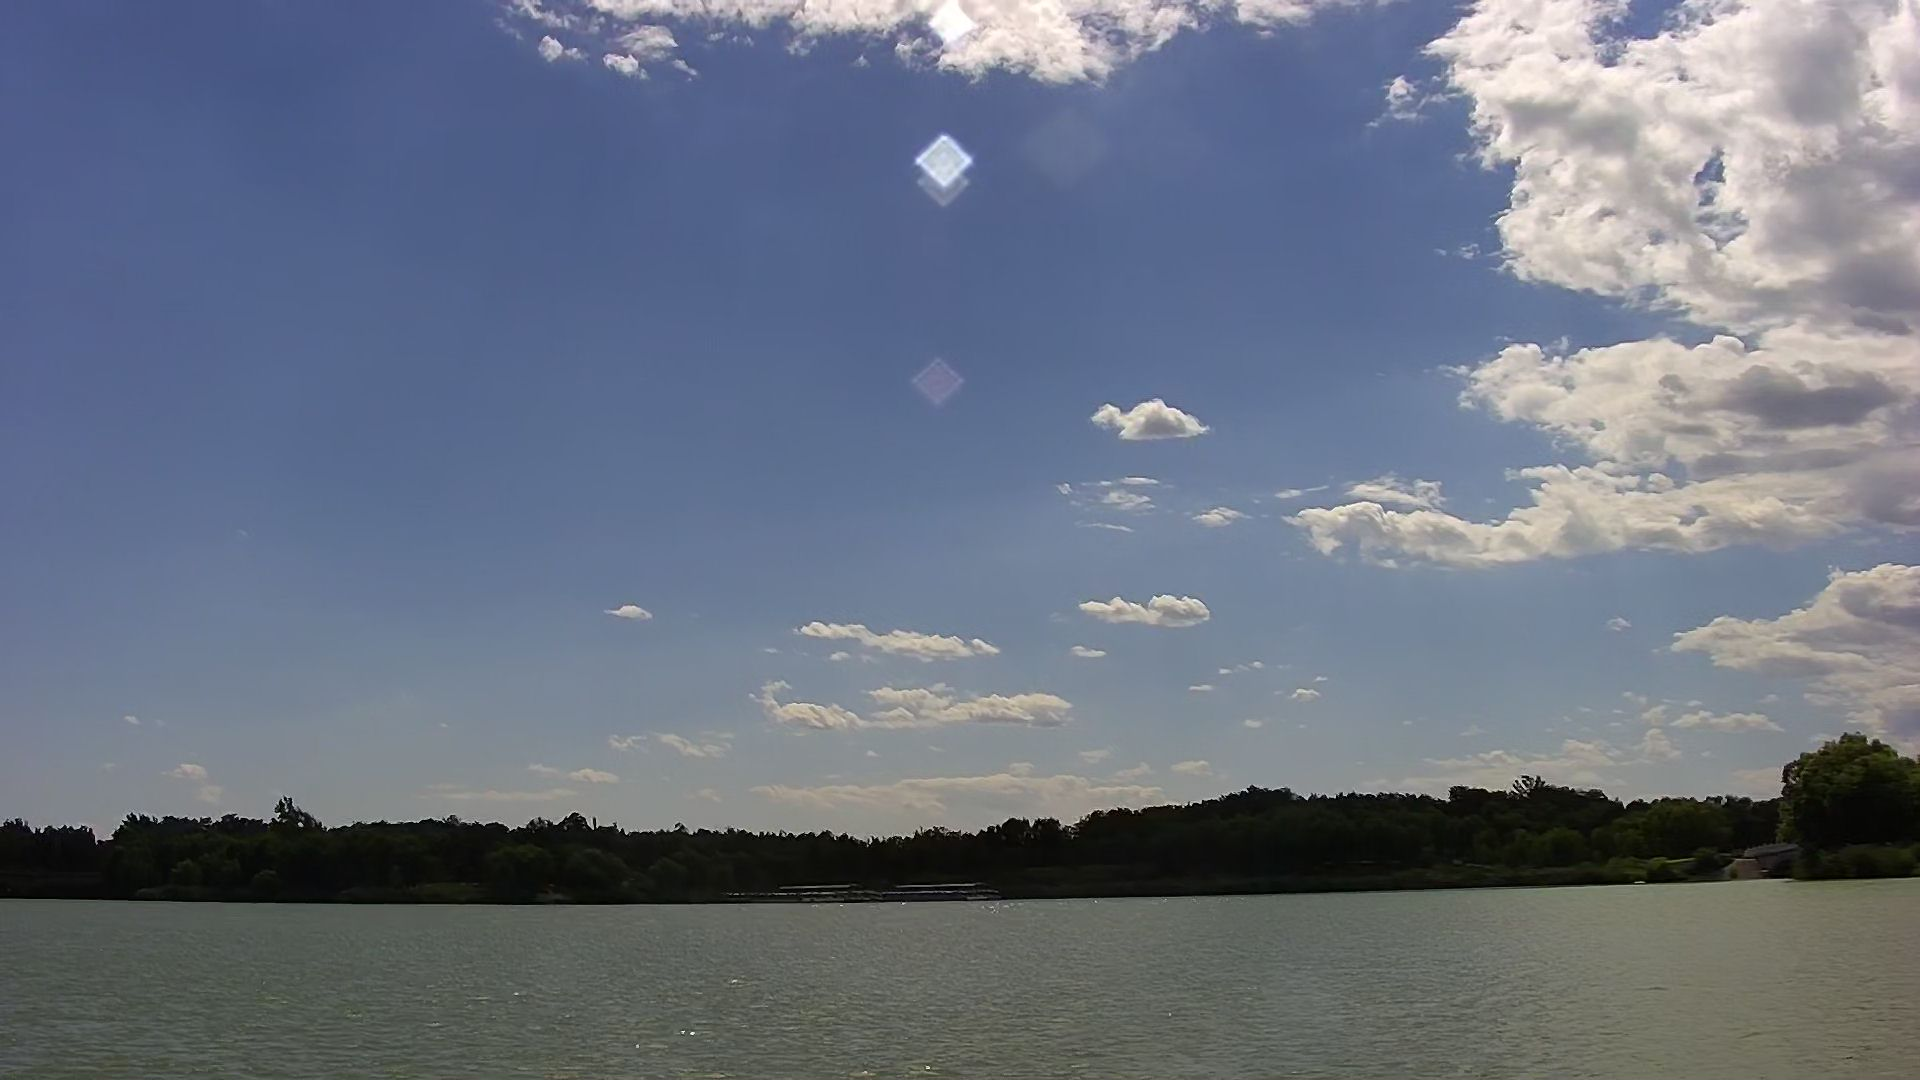harbor: (762, 884, 985, 906)
